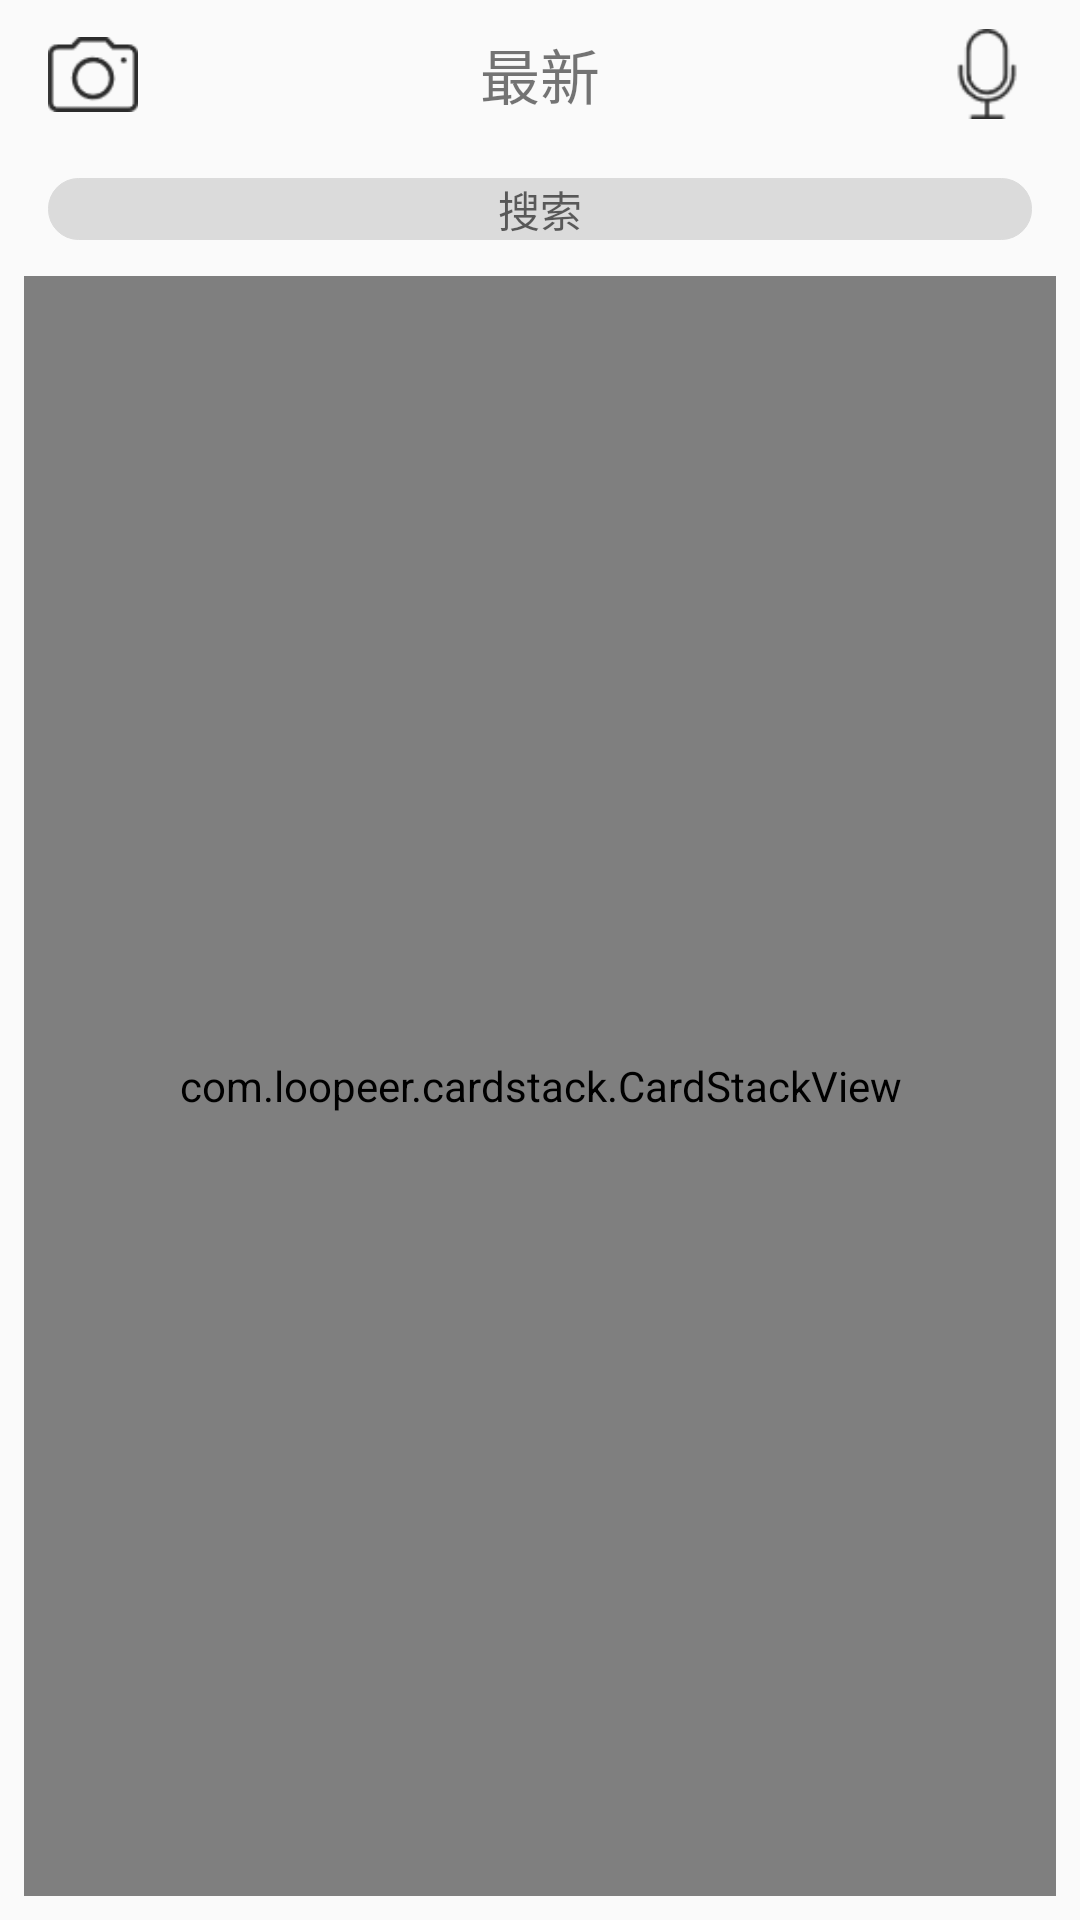

Icons on this 1080×1920 Android screen, each with the point to tap as (x=x, y=y):
camera: (x=93, y=74)
microphone: (x=987, y=74)
